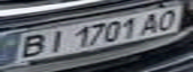0: (103, 18, 127, 43)
1: (118, 15, 142, 39), (69, 24, 90, 48)
7: (87, 20, 109, 46)
A: (136, 10, 166, 36)
B: (9, 32, 51, 61)
I: (39, 28, 69, 54)
O: (151, 7, 184, 33)
